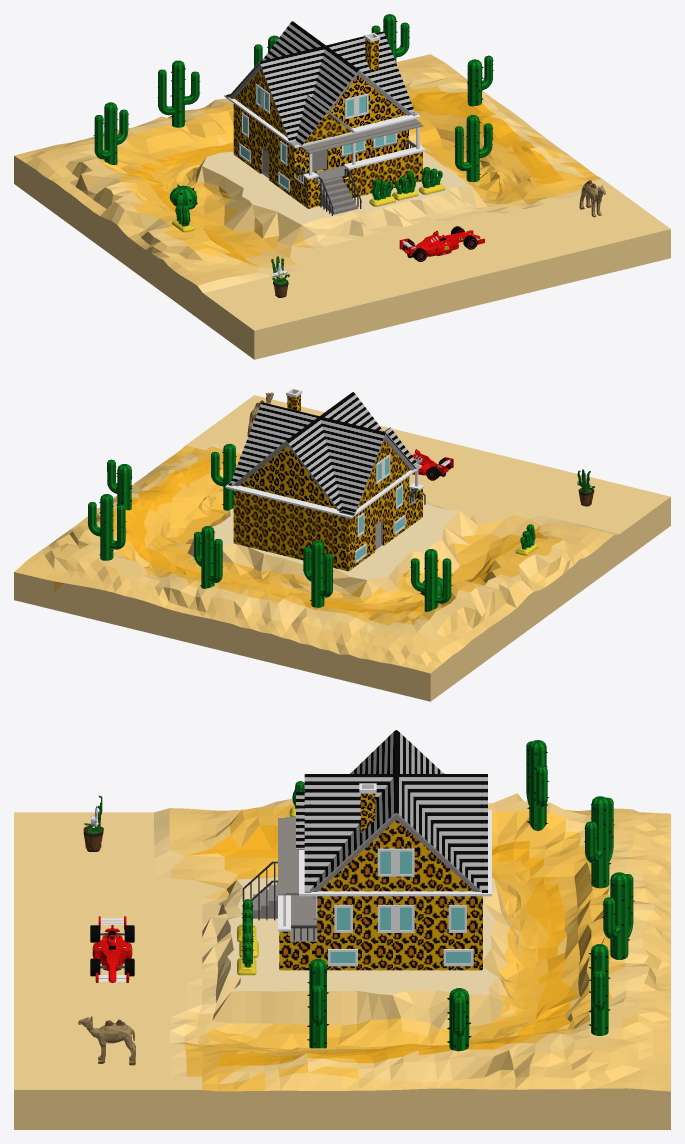
The picture shows the model from 3 angles, top to bottom: view 1: azimuth 30°, elevation 25°; view 2: azimuth 150°, elevation 25°; view 3: azimuth 270°, elevation 25°; orthographic projection. The views are drawn at different scales.
Visible parts, largest first — view 1: Cube.001, Cube.637, Cylinder.037, Cylinder.044, Cylinder.045, VEHICLES_FORMULA_1, Cylinder.038, Cylinder.042, ANIMAL_CAMELLO, Cylinder.039, Cylinder.041, OBJRANDOM_MONJA BLANCA (+2 smaller); view 2: Cube.001, Cube.637, Cylinder.042, Cylinder.045, Cylinder.044, Cylinder.043, Cylinder.037, Cylinder.038, VEHICLES_FORMULA_1; view 3: Cube.001, Cube.637, VEHICLES_FORMULA_1, Cylinder.043, Cylinder.044, Cylinder.045, Cylinder.042, Cylinder.037, Cylinder.038, ANIMAL_CAMELLO, OBJRANDOM_MONJA BLANCA, Cylinder.041.
Part boxes in pixels (x1=…): Cube.001: x1=14, y1=54, x2=670, y2=359; Cube.637: x1=224, y1=21, x2=425, y2=215; Cylinder.037: x1=454, y1=115, x2=493, y2=182; Cylinder.044: x1=157, y1=60, x2=200, y2=127; Cylinder.045: x1=93, y1=102, x2=129, y2=164; VEHICLES_FORMULA_1: x1=399, y1=226, x2=484, y2=261; Cylinder.038: x1=467, y1=55, x2=493, y2=106; Cylinder.042: x1=371, y1=14, x2=409, y2=62; ANIMAL_CAMELLO: x1=579, y1=180, x2=605, y2=217; Cylinder.039: x1=369, y1=179, x2=395, y2=206; Cylinder.041: x1=418, y1=167, x2=445, y2=194; OBJRANDOM_MONJA BLANCA: x1=271, y1=256, x2=289, y2=297; Cube.001: x1=14, y1=395, x2=670, y2=701; Cube.637: x1=225, y1=388, x2=425, y2=571; Cylinder.042: x1=88, y1=494, x2=126, y2=560; Cylinder.045: x1=410, y1=549, x2=452, y2=611; Cylinder.044: x1=303, y1=540, x2=333, y2=607; Cylinder.043: x1=193, y1=526, x2=222, y2=588; Cylinder.037: x1=211, y1=444, x2=240, y2=510; Cylinder.038: x1=107, y1=459, x2=131, y2=510; VEHICLES_FORMULA_1: x1=410, y1=449, x2=453, y2=480; Cube.001: x1=14, y1=793, x2=670, y2=1129; Cube.637: x1=242, y1=730, x2=491, y2=970; VEHICLES_FORMULA_1: x1=90, y1=916, x2=134, y2=982; Cylinder.043: x1=602, y1=872, x2=634, y2=959; Cylinder.044: x1=584, y1=796, x2=614, y2=888; Cylinder.045: x1=526, y1=740, x2=549, y2=830; Cylinder.042: x1=588, y1=944, x2=610, y2=1035; Cylinder.037: x1=307, y1=959, x2=329, y2=1048; Cylinder.038: x1=447, y1=988, x2=471, y2=1051; ANIMAL_CAMELLO: x1=78, y1=1016, x2=135, y2=1065; OBJRANDOM_MONJA BLANCA: x1=83, y1=795, x2=103, y2=851; Cylinder.041: x1=237, y1=932, x2=256, y2=975.
Size of the model in its own units: 4002 by 1650 by 4001.
Materials: 35 (4 with a texture image).
